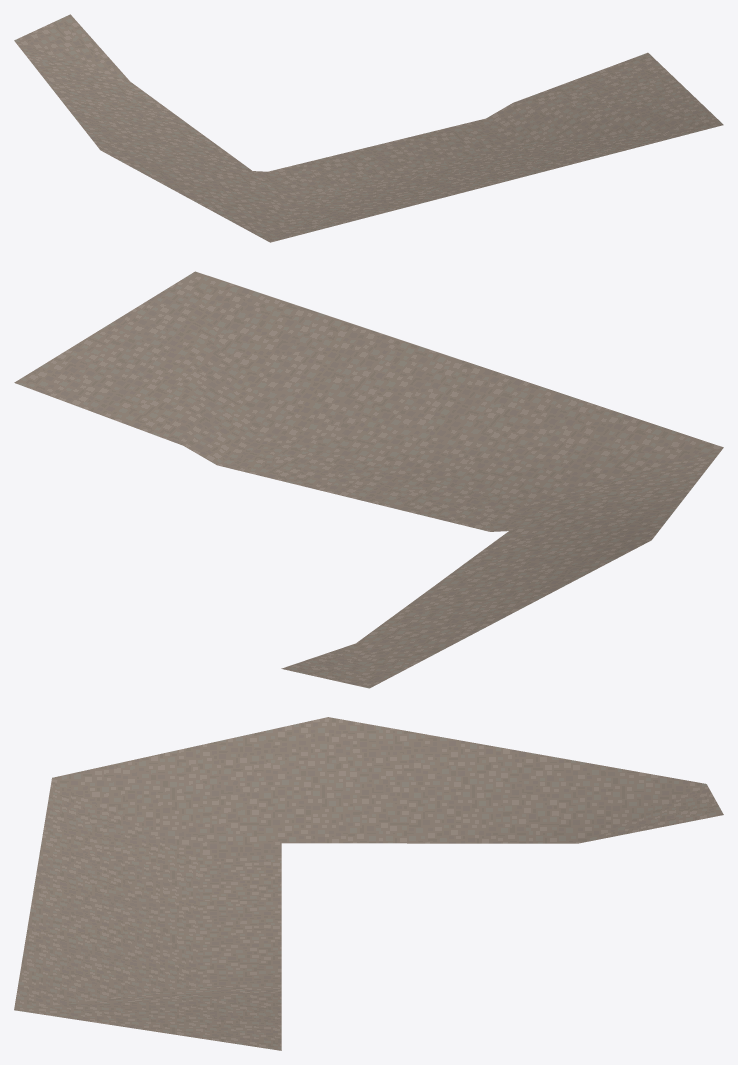
The model's file is kd_stage_135ded_4_132_exterior.glb.
The picture shows the model from 3 angles, top to bottom: view 1: azimuth 30°, elevation 25°; view 2: azimuth 150°, elevation 25°; view 3: azimuth 270°, elevation 25°; orthographic projection. The views are drawn at different scales.
Parts seen in each view (by area): view 1: kd_stage_135ded_4_132_exterior; view 2: kd_stage_135ded_4_132_exterior; view 3: kd_stage_135ded_4_132_exterior.
Part boxes in pixels (<box>): kd_stage_135ded_4_132_exterior: <box>14,14,723,242</box>; kd_stage_135ded_4_132_exterior: <box>14,271,723,688</box>; kd_stage_135ded_4_132_exterior: <box>14,717,723,1050</box>.
Size of the model in its own units: 0.8418 by 0.0662 by 0.8068.
1 material, 1 textured.
